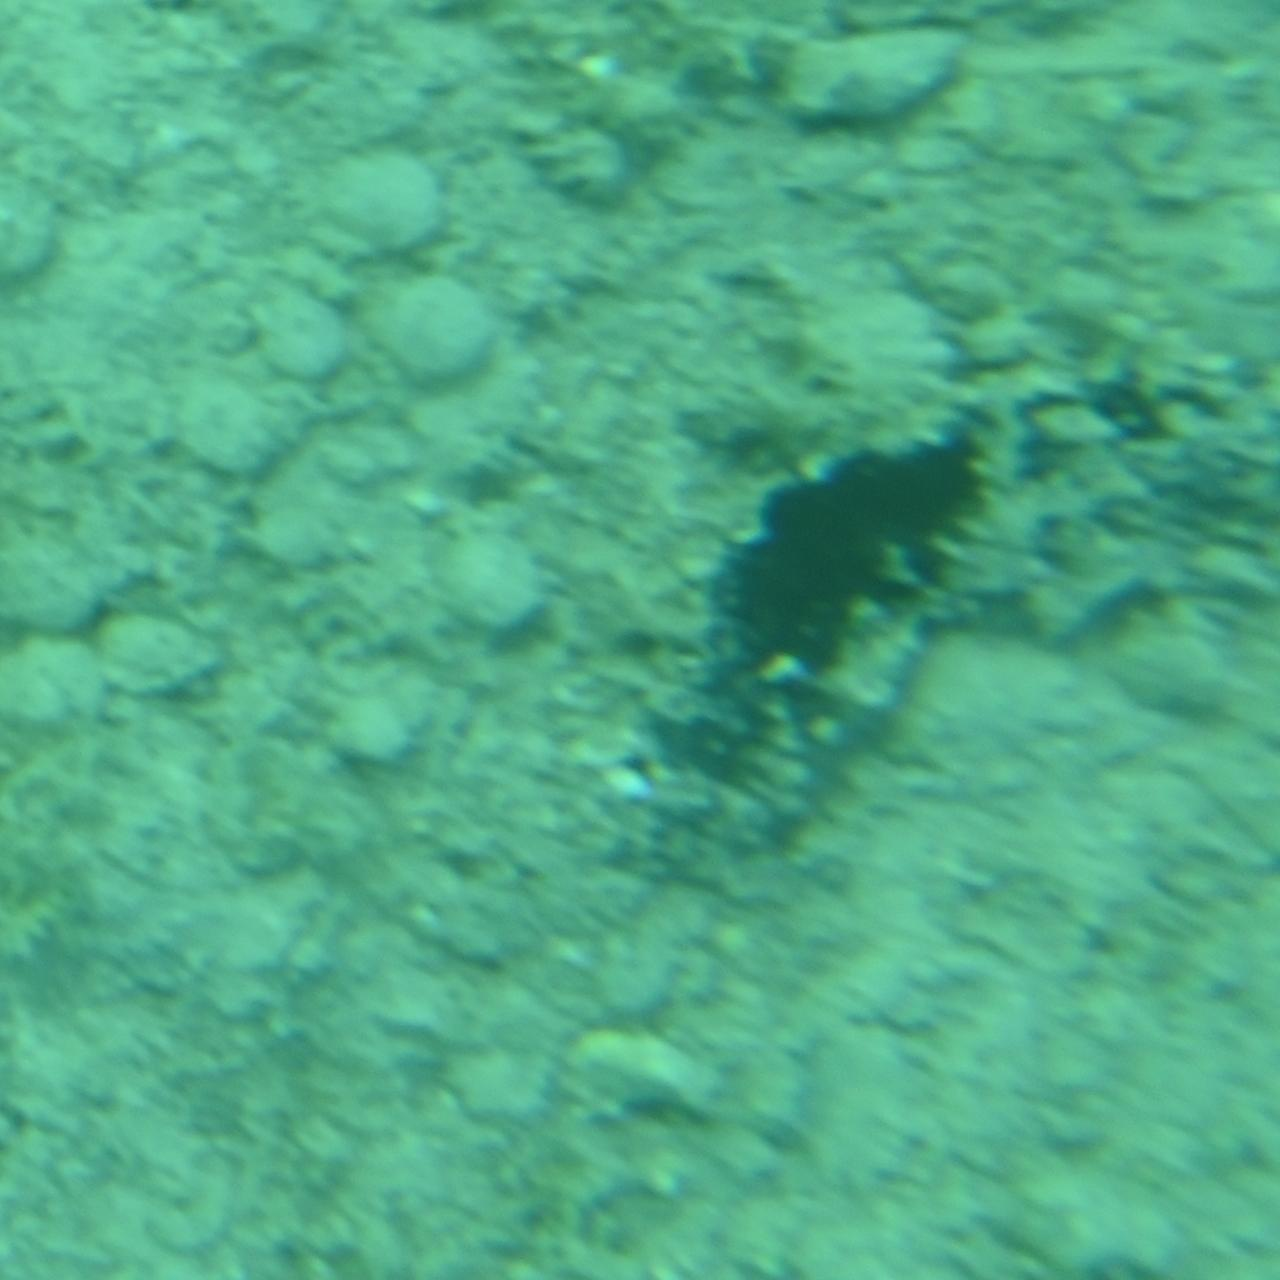Holothuria tubulosa: (580, 386, 1279, 894)
